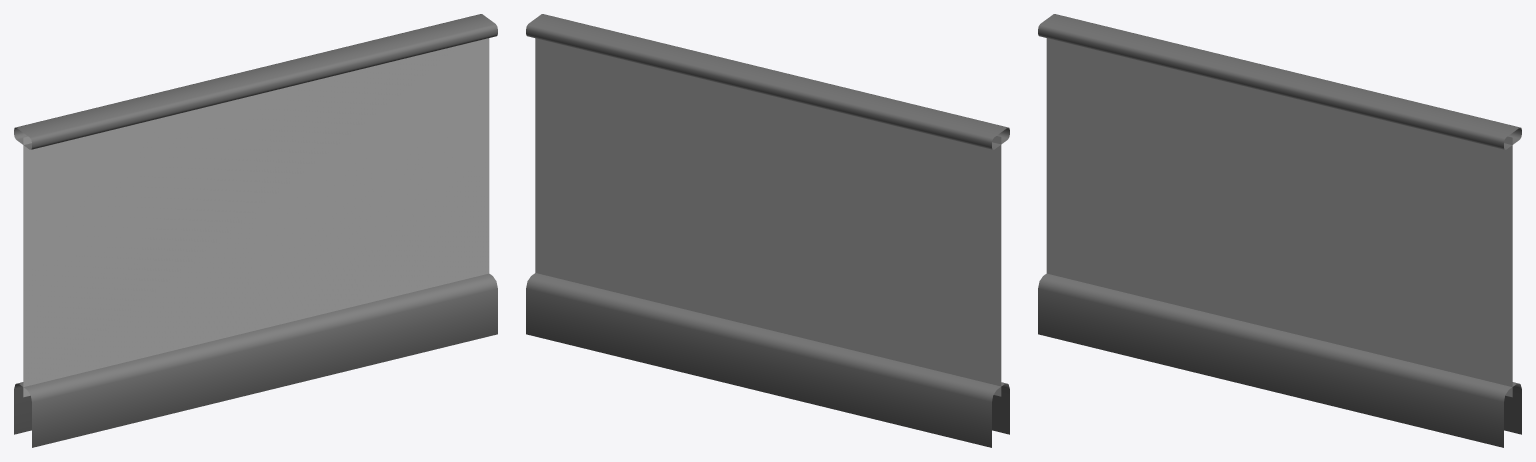
The model's file is PagerW1.fbx.
3 views of the same model, side by side, from view 1: azimuth 30°, elevation 25°; view 2: azimuth 150°, elevation 25°; view 3: azimuth 330°, elevation 25° (orthographic).
Parts seen in each view (by area): view 1: PagerB2_LOD0; view 2: PagerB2_LOD0; view 3: PagerB2_LOD0.
Boxes of the visible parts, x1=… form: PagerB2_LOD0: x1=14, y1=14, x2=497, y2=447; PagerB2_LOD0: x1=526, y1=14, x2=1009, y2=447; PagerB2_LOD0: x1=1038, y1=14, x2=1521, y2=447.
Size of what is drawn, in the model's own units: 392 by 248 by 26.34.
